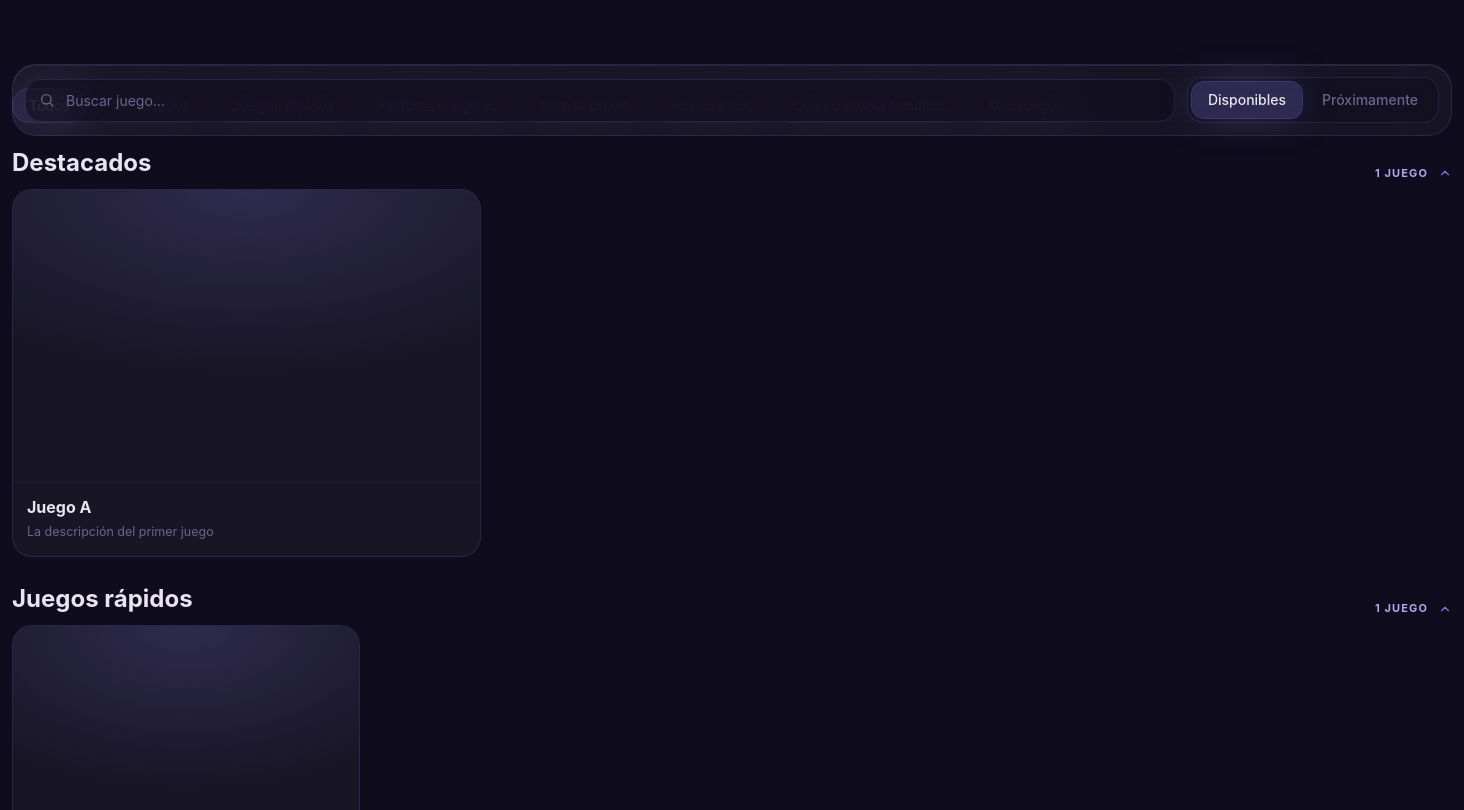
Test: GamePicker › shows an empty-state message when no game matches the search
Type "no-existe" into the field with placeholder "Buscar juego…".
click(600, 100); type("no-existe")  # box [25,78,1175,122]
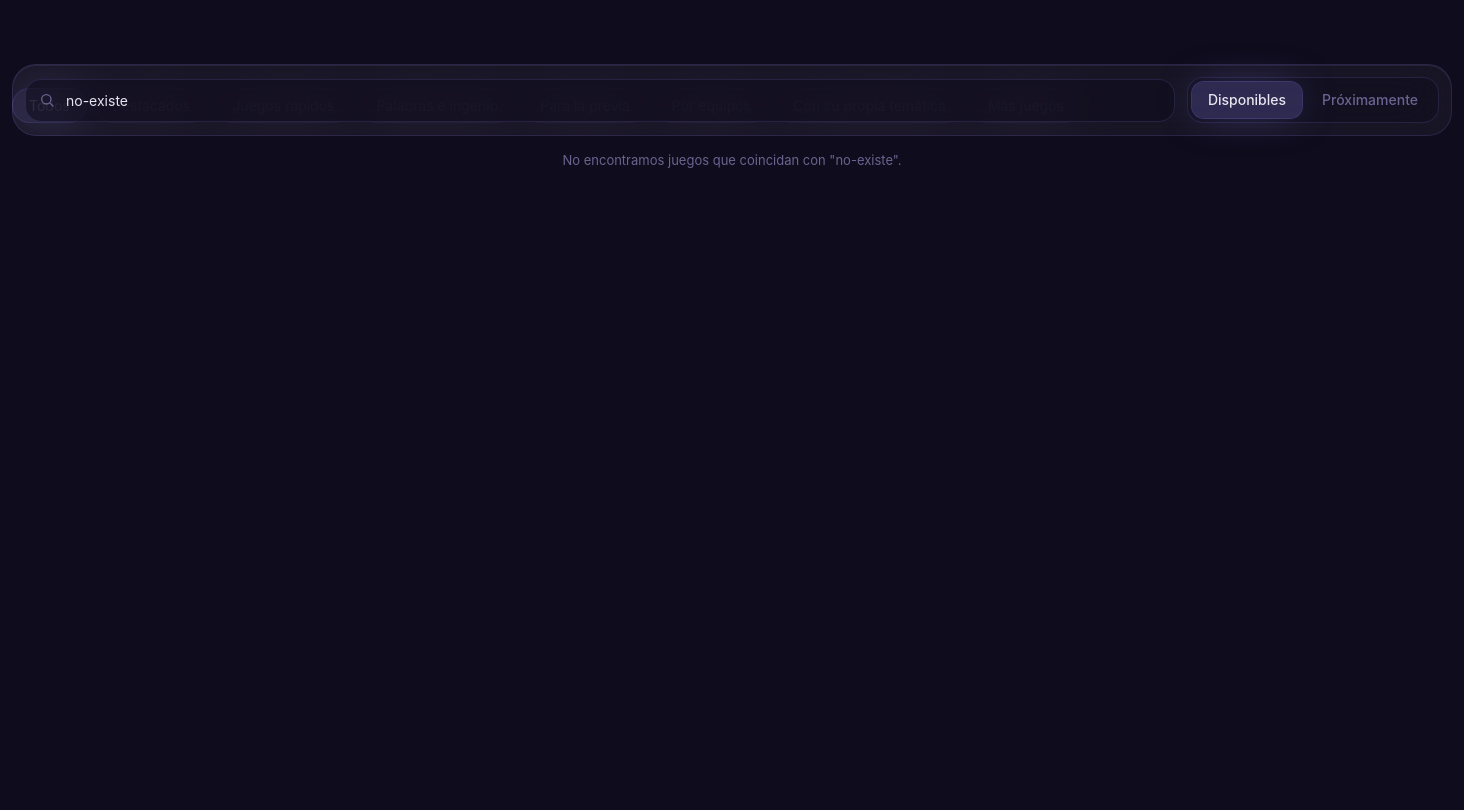
expect the text "No encontramos juegos que coincidan con \"no-existe\"." is shown: met, box [562,152,902,168]
